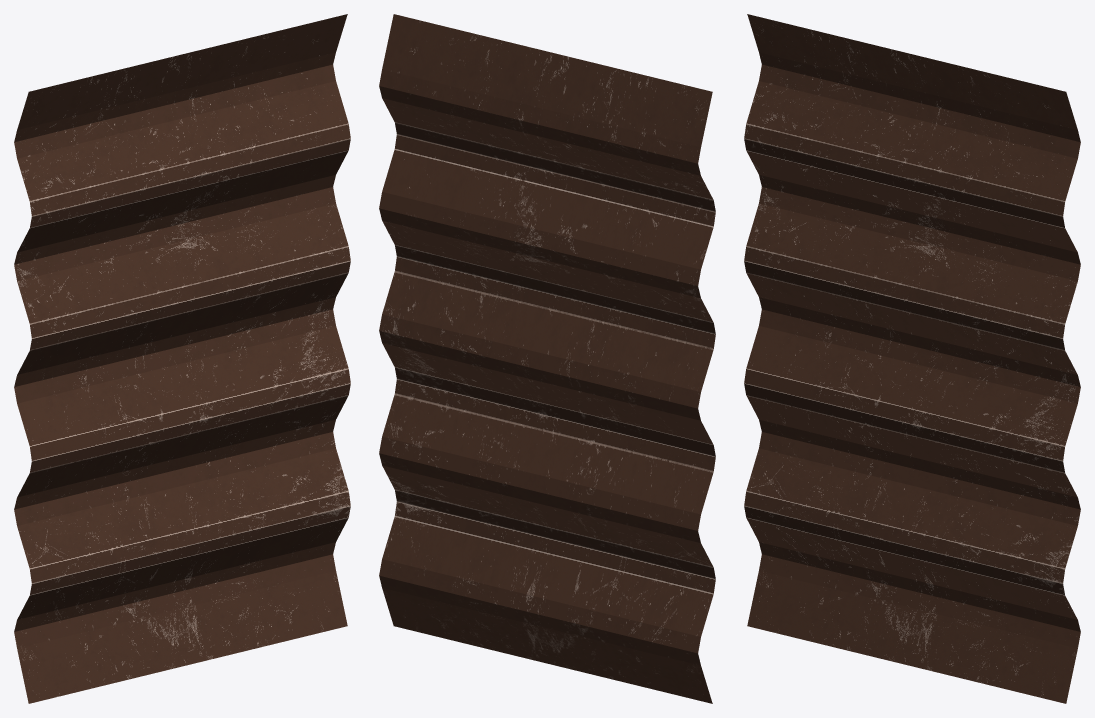
The model's file is Bend3_Brown.gltf.
3 views of the same model, side by side, from view 1: azimuth 30°, elevation 25°; view 2: azimuth 150°, elevation 25°; view 3: azimuth 330°, elevation 25° (orthographic).
Parts seen in each view (by area): view 1: Plane.009; view 2: Plane.009; view 3: Plane.009.
Part boxes in pixels (bbox=[...]): Plane.009: bbox=[14, 14, 350, 703]; Plane.009: bbox=[379, 14, 715, 703]; Plane.009: bbox=[744, 14, 1080, 703].
Size of the model in its own units: 2.22 by 4.06 by 0.2138.
Materials: 1 (1 with a texture image).
